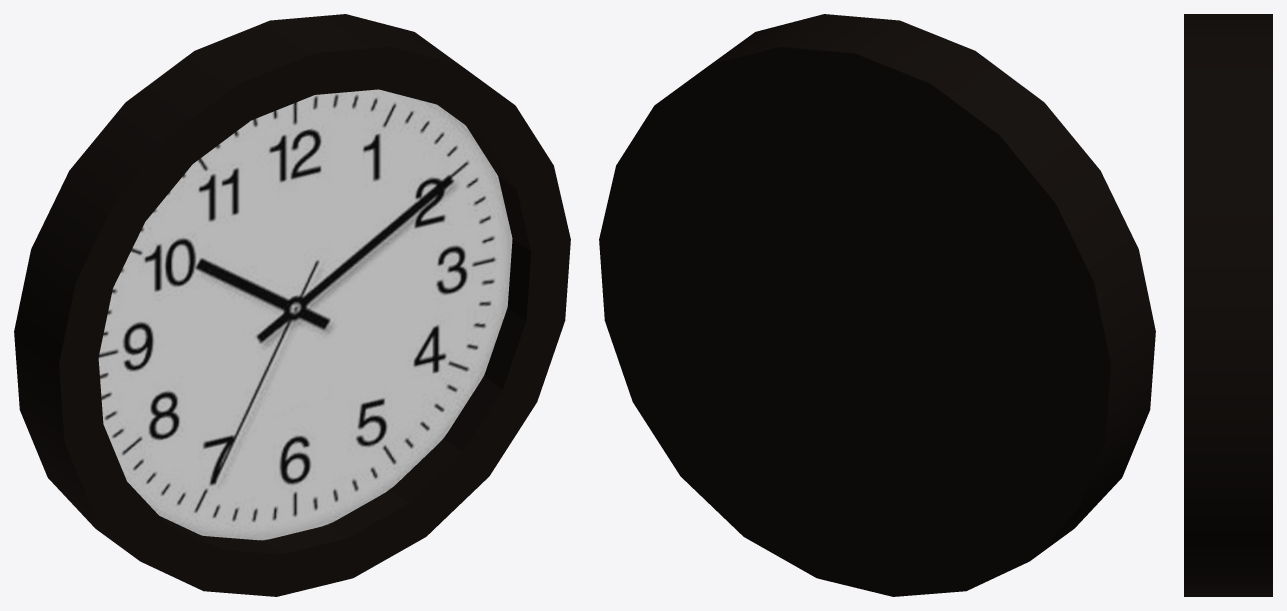
Rendered from Clock.FBX.
3 views of the same model, side by side, from view 1: azimuth 30°, elevation 25°; view 2: azimuth 150°, elevation 25°; view 3: azimuth 270°, elevation 25° (orthographic).
Visible parts, largest first — view 1: Clock; view 2: Clock; view 3: Clock.
Part boxes in pixels (left/top/right/bottom): Clock: left=14, top=14, right=570, bottom=596; Clock: left=599, top=14, right=1155, bottom=596; Clock: left=1184, top=14, right=1272, bottom=596.
Size of the model in its own units: 16.36 by 2.48 by 16.32.
Materials: 1 (1 with a texture image).
